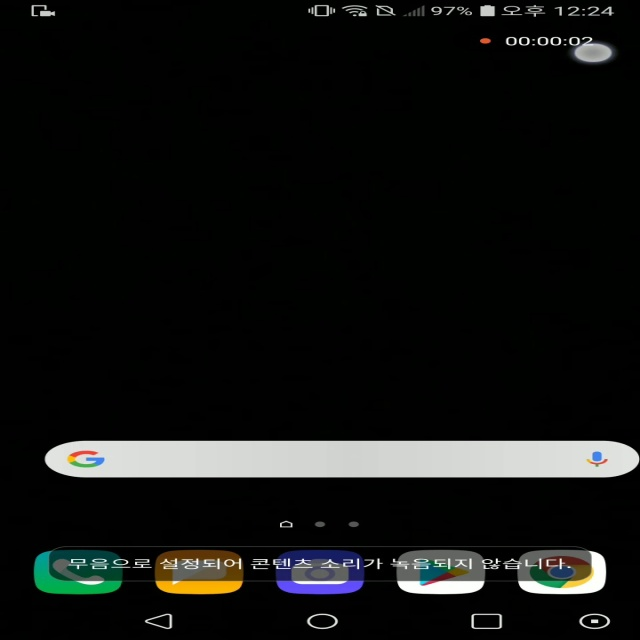Cursor: (569, 42, 614, 65)
